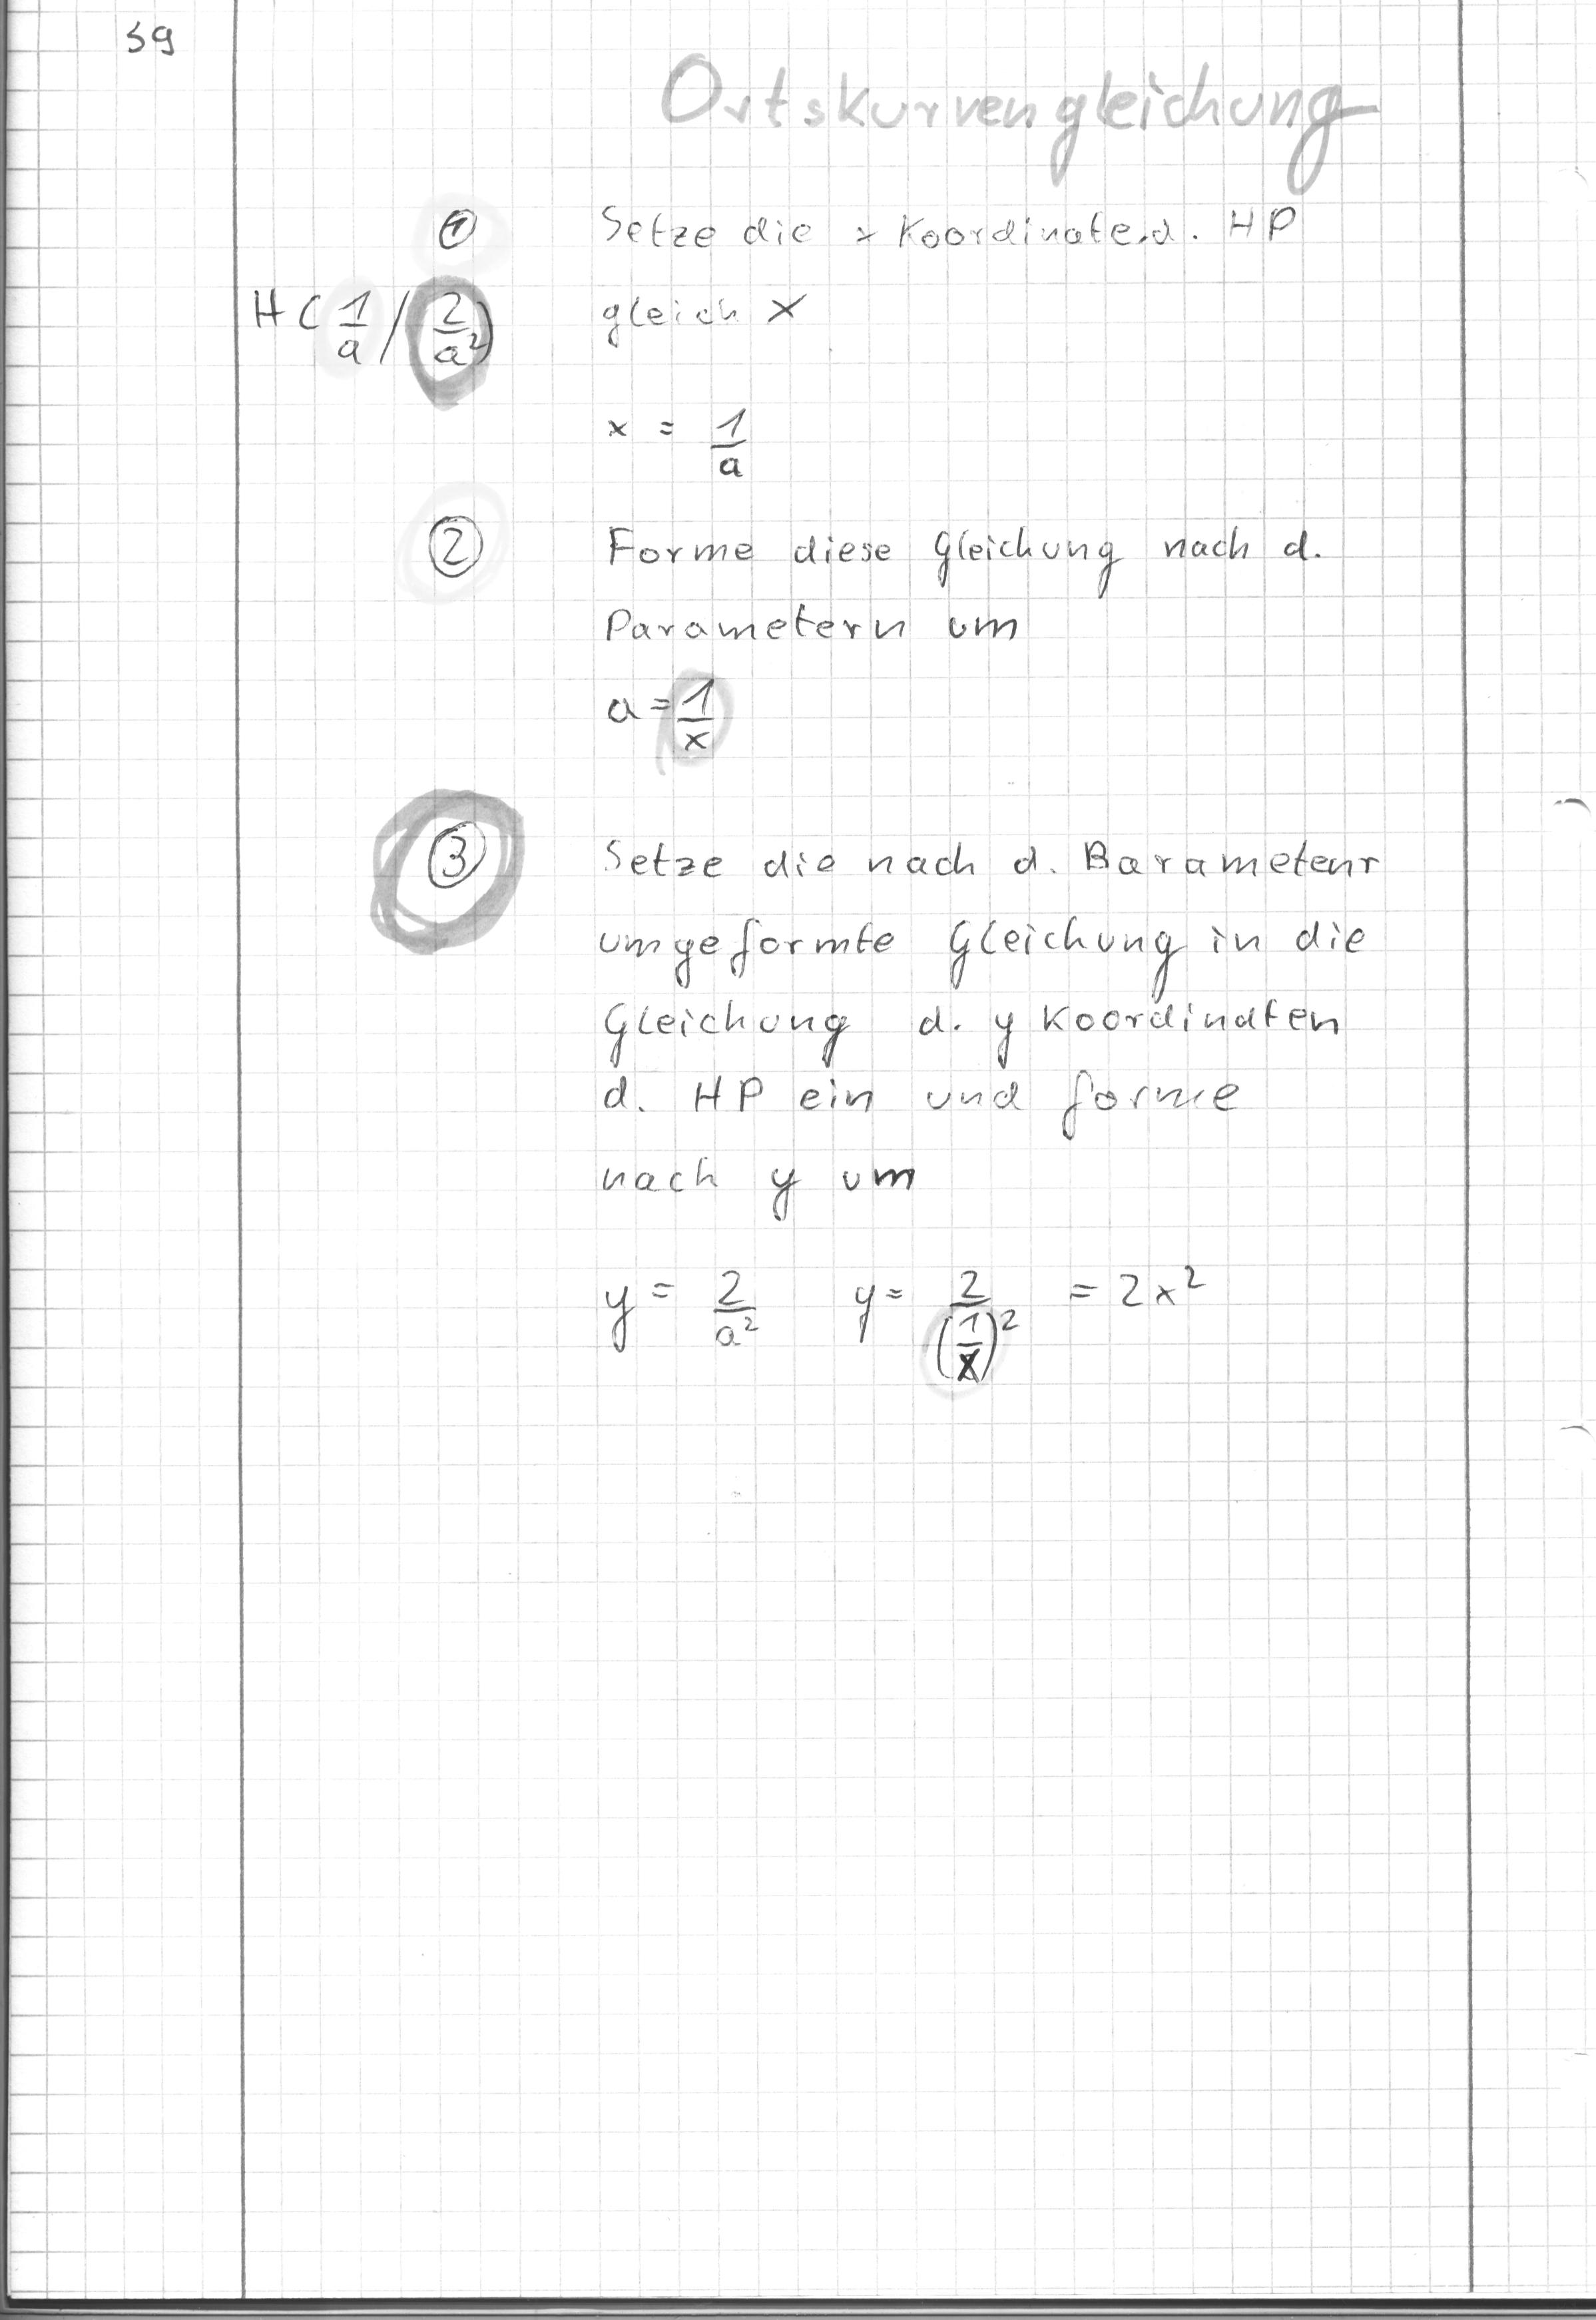word: (589, 825, 1390, 1229), (591, 195, 1304, 357), (595, 519, 1326, 661), (591, 1255, 1209, 1404), (590, 394, 762, 495)
